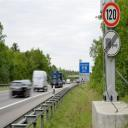speed_limit_120: (101, 1, 122, 29)
